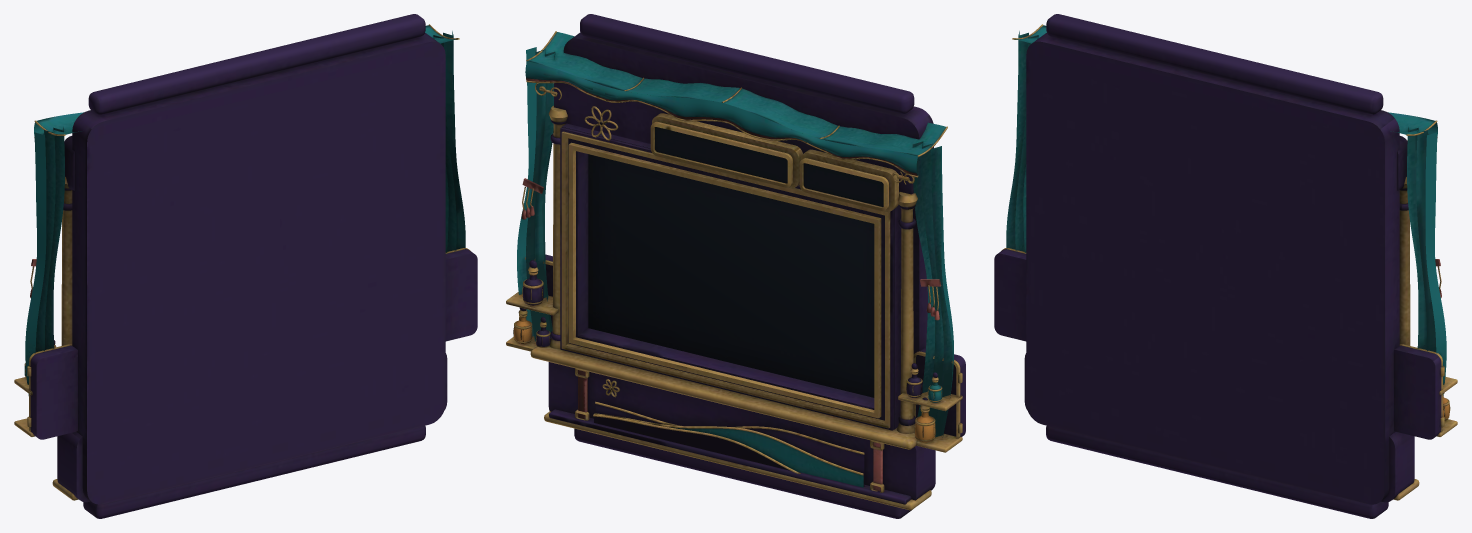
3 views of the same model, side by side, from view 1: azimuth 30°, elevation 25°; view 2: azimuth 150°, elevation 25°; view 3: azimuth 330°, elevation 25° (orthographic).
Parts seen in each view (by area): view 1: Violet_mineral_lacquer, Teal_woven_canopy, Satin_caravan_brass; view 2: Violet_mineral_lacquer, Even_dark_enamel, Satin_caravan_brass, Teal_woven_canopy, Coral_woven_binding, Amber_perfume_enamel; view 3: Violet_mineral_lacquer, Teal_woven_canopy, Satin_caravan_brass.
Part boxes in pixels (x1,y1,x2,y2): Violet_mineral_lacquer: (30,14,477,518); Teal_woven_canopy: (24,25,465,395); Satin_caravan_brass: (14,24,470,500); Violet_mineral_lacquer: (519,14,965,518); Even_dark_enamel: (588,127,883,397); Satin_caravan_brass: (506,31,962,510); Teal_woven_canopy: (517,32,953,487); Coral_woven_binding: (521,78,941,491); Amber_perfume_enamel: (514,315,935,442); Violet_mineral_lacquer: (994,14,1441,518); Teal_woven_canopy: (1006,25,1446,395); Satin_caravan_brass: (1001,24,1457,500).
Size of the model in its own units: 10.06 by 9.1 by 1.42.
6 materials, 6 textured.
